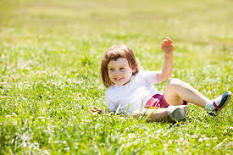child: (85, 36, 233, 127)
